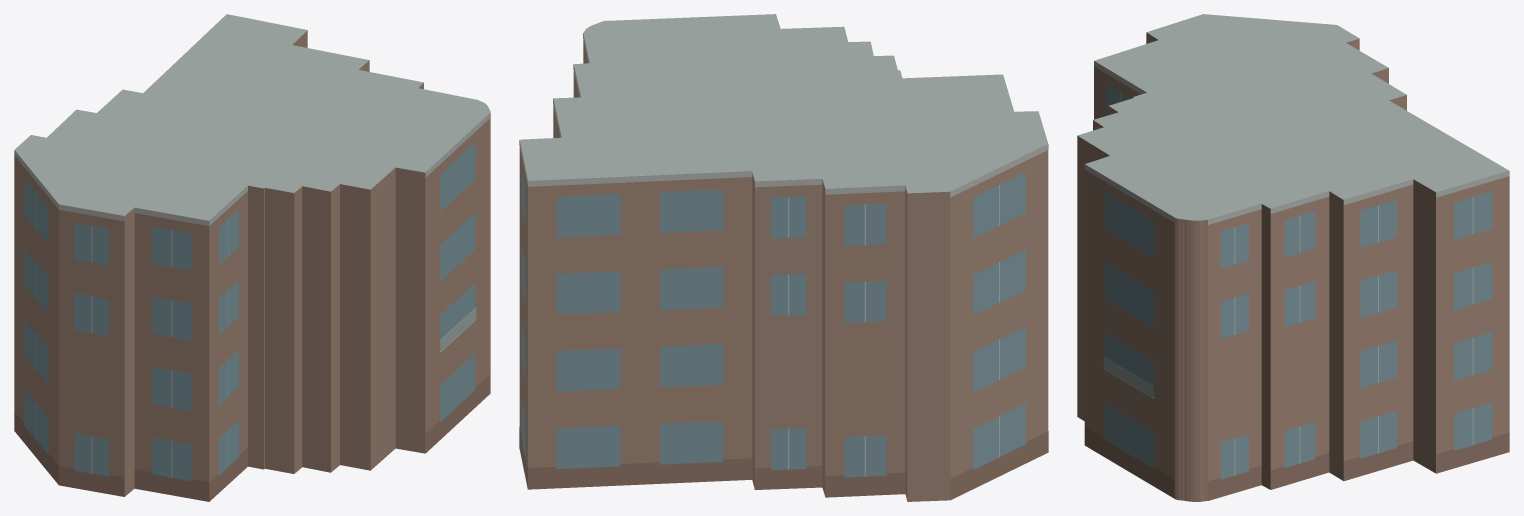
Rendered from survey-upis-32657773.glb.
3 views of the same model, side by side, from view 1: azimuth 30°, elevation 25°; view 2: azimuth 150°, elevation 25°; view 3: azimuth 270°, elevation 25° (orthographic). The views are drawn at different scales.
Parts seen in each view (by area): view 1: survey-upis-32657773.tmp; view 2: survey-upis-32657773.tmp; view 3: survey-upis-32657773.tmp.
Part boxes in pixels (x1,y1,x2,y2): survey-upis-32657773.tmp: (14, 14, 490, 501); survey-upis-32657773.tmp: (519, 14, 1048, 501); survey-upis-32657773.tmp: (1077, 14, 1509, 501).
Size of the model in its own units: 20.17 by 12.8 by 17.83.
